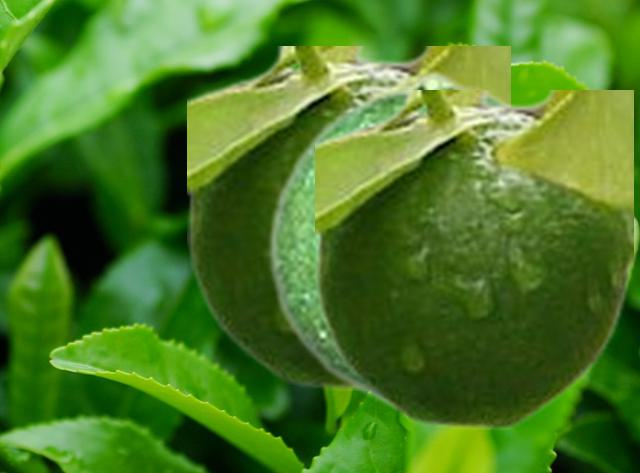dalandan: (187, 46, 509, 389), (315, 90, 632, 428), (265, 69, 514, 419)
